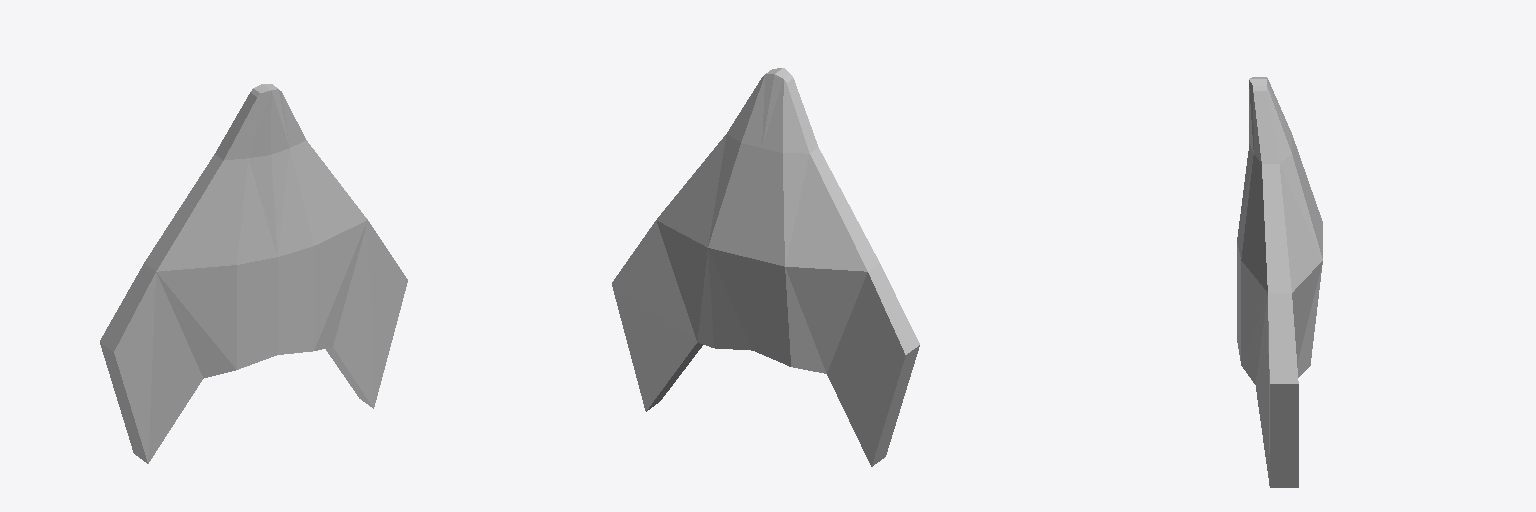
The model's file is ship2.obj.
3 views of the same model, side by side, from view 1: azimuth 30°, elevation 25°; view 2: azimuth 150°, elevation 25°; view 3: azimuth 270°, elevation 25° (orthographic).
Parts seen in each view (by area): view 1: cube1_cube1_auv; view 2: cube1_cube1_auv; view 3: cube1_cube1_auv.
Part boxes in pixels (x1,y1,x2,y2): cube1_cube1_auv: (100, 84, 407, 463); cube1_cube1_auv: (612, 68, 919, 466); cube1_cube1_auv: (1237, 77, 1322, 487).
Bounding box in the file's own units: 4.56 × 5.25 × 1.16.